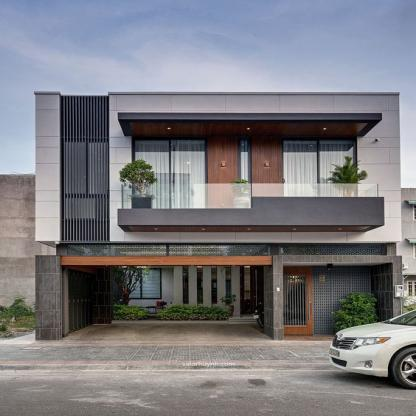Balcony: (122, 183, 378, 225)
Building Outline: (33, 91, 403, 342)
Door: (284, 141, 354, 220), (282, 268, 313, 335), (254, 267, 276, 314)
Facade: (33, 91, 403, 342)
Floor Slab: (36, 225, 402, 241)
Window: (136, 141, 205, 220), (64, 142, 109, 218), (120, 270, 160, 298), (239, 141, 250, 220), (244, 266, 250, 312), (227, 268, 232, 303), (183, 268, 188, 303), (197, 268, 202, 303), (212, 268, 217, 303)
